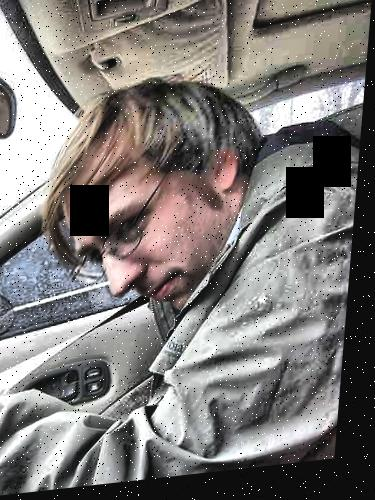seatbelt: (0, 293, 179, 416)
